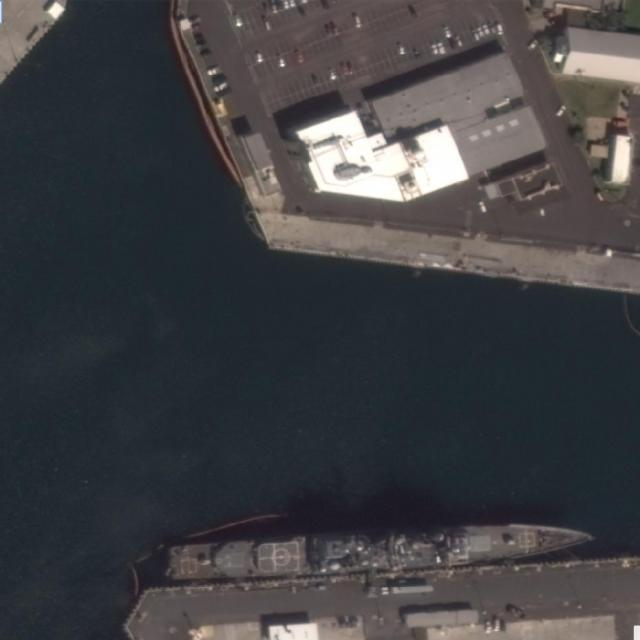Cruiser: (167, 520, 595, 581)
